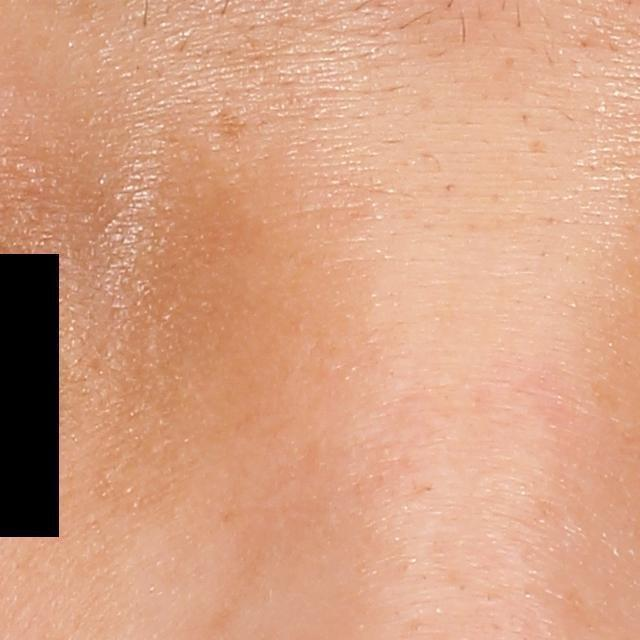melasma: (214, 106, 251, 146)
